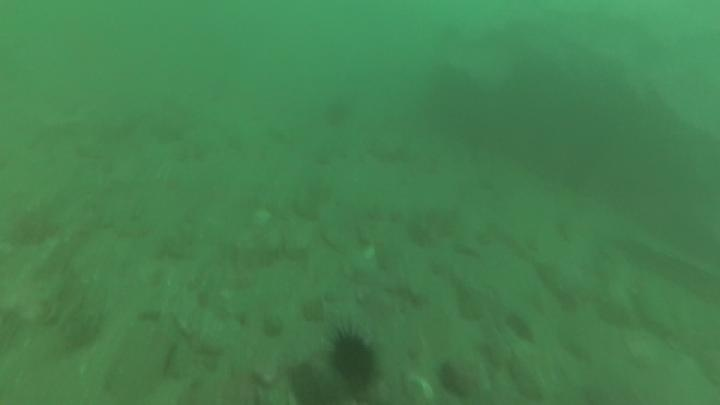echinus: (325, 326, 382, 391), (319, 96, 355, 130)
holothurian: (37, 266, 103, 353)
